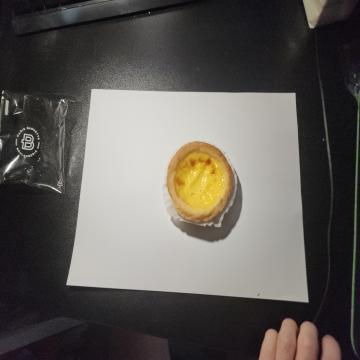EggTart: (166, 140, 234, 222)
